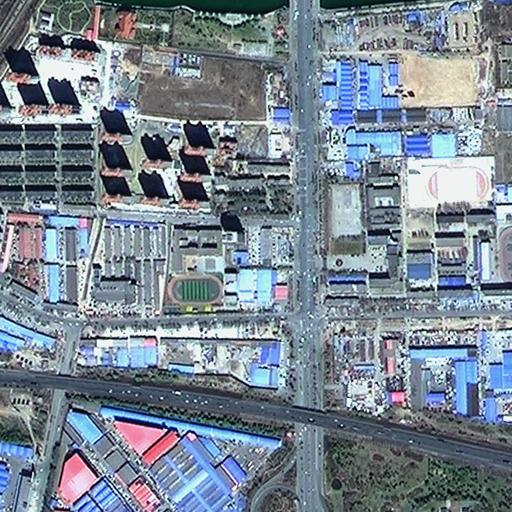school: (164, 224, 224, 311)
